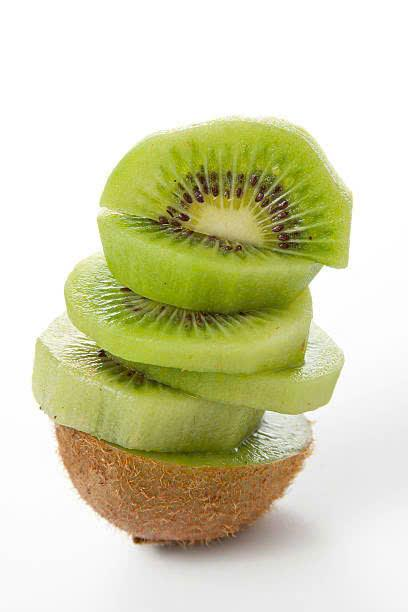kiwi: (63, 204, 340, 459), (36, 409, 312, 568), (73, 120, 353, 274)
